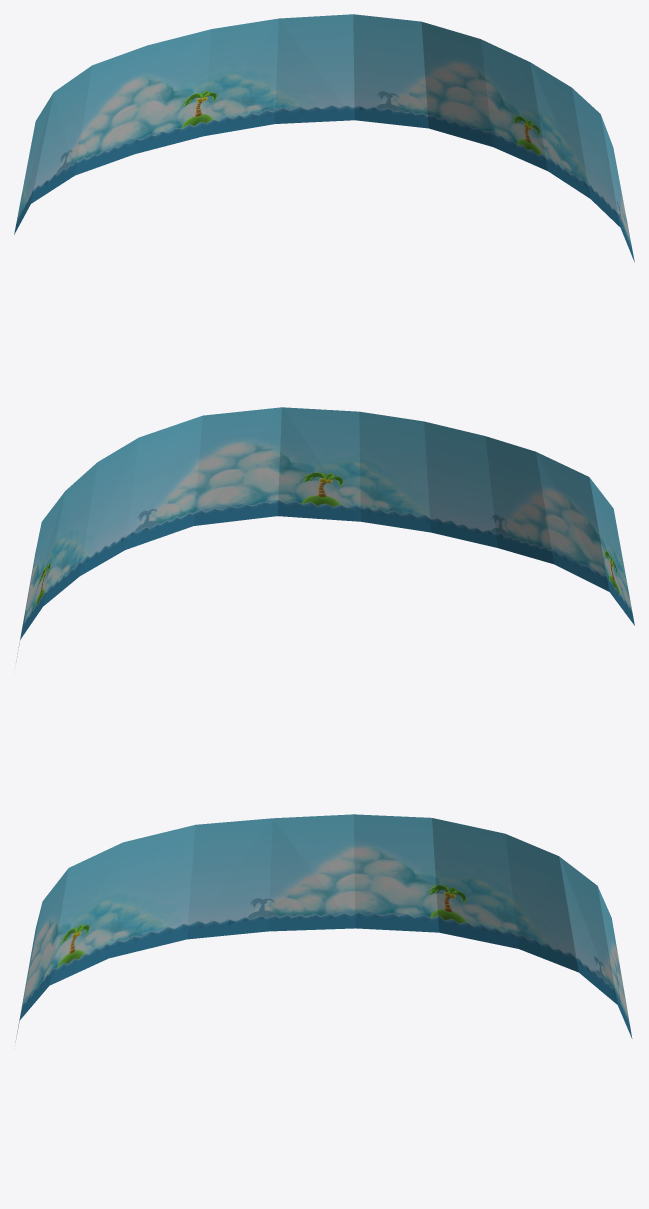
File: vrcorn.glb
3 renders of one model, top to bottom at view 1: azimuth 30°, elevation 25°; view 2: azimuth 150°, elevation 25°; view 3: azimuth 270°, elevation 25°, orthographic. The views are drawn at different scales.
Parts seen in each view (by area): view 1: polygon0; view 2: polygon0; view 3: polygon0.
Boxes of the visible parts, <box> form: polygon0: <box>14,14,634,262</box>; polygon0: <box>16,407,634,660</box>; polygon0: <box>15,814,632,1042</box>.
Bounding box in the file's own units: 843 × 262 × 832.
Materials: 1 (1 with a texture image).
